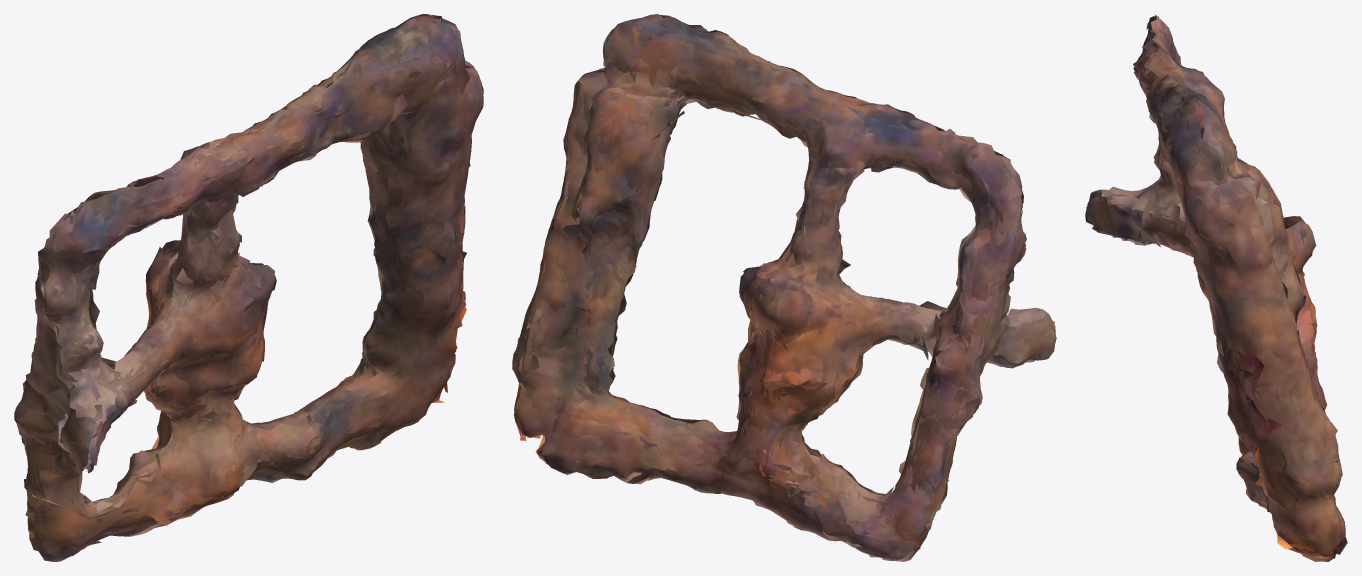
The model's file is rusted_buckle.glb.
The picture shows the model from 3 angles, left to right: view 1: azimuth 30°, elevation 25°; view 2: azimuth 150°, elevation 25°; view 3: azimuth 270°, elevation 25°; orthographic projection. The views are drawn at different scales.
Visible parts, largest first — view 1: Object_5, Object_15, Object_3, Object_13, Object_4, Object_12, Object_2, Object_11, Object_14, Object_17, Object_16, Object_18 (+8 smaller); view 2: Object_22, Object_24, Object_8, Object_23, Object_6, Object_18, Object_7, Object_21, Object_17, Object_20, Object_4, Object_25 (+7 smaller); view 3: Object_20, Object_21, Object_14, Object_19, Object_3, Object_13, Object_22, Object_2, Object_16, Object_15, Object_11, Object_17 (+6 smaller).
Boxes of the visible parts, x1=… form: Object_5: x1=20, y1=46, x2=464, y2=548; Object_15: x1=52, y1=24, x2=466, y2=513; Object_3: x1=49, y1=28, x2=483, y2=518; Object_13: x1=43, y1=25, x2=470, y2=554; Object_4: x1=15, y1=59, x2=430, y2=553; Object_12: x1=30, y1=46, x2=466, y2=557; Object_2: x1=36, y1=44, x2=473, y2=549; Object_11: x1=31, y1=28, x2=469, y2=560; Object_14: x1=65, y1=23, x2=483, y2=492; Object_17: x1=51, y1=16, x2=453, y2=507; Object_16: x1=69, y1=17, x2=461, y2=417; Object_18: x1=18, y1=15, x2=433, y2=504; Object_22: x1=514, y1=25, x2=1003, y2=532; Object_24: x1=530, y1=33, x2=1050, y2=541; Object_8: x1=537, y1=69, x2=1030, y2=559; Object_23: x1=521, y1=25, x2=1022, y2=539; Object_6: x1=541, y1=22, x2=1021, y2=546; Object_18: x1=551, y1=17, x2=1054, y2=533; Object_7: x1=543, y1=36, x2=1021, y2=543; Object_21: x1=512, y1=22, x2=1004, y2=521; Object_17: x1=557, y1=14, x2=1051, y2=501; Object_20: x1=512, y1=18, x2=981, y2=493; Object_4: x1=608, y1=38, x2=1055, y2=549; Object_25: x1=798, y1=210, x2=1056, y2=530; Object_20: x1=1183, y1=73, x2=1344, y2=549; Object_21: x1=1158, y1=30, x2=1344, y2=539; Object_14: x1=1089, y1=70, x2=1320, y2=556; Object_19: x1=1177, y1=120, x2=1337, y2=556; Object_3: x1=1086, y1=32, x2=1312, y2=550; Object_13: x1=1107, y1=56, x2=1281, y2=533; Object_22: x1=1156, y1=31, x2=1345, y2=539; Object_2: x1=1085, y1=16, x2=1291, y2=536; Object_16: x1=1108, y1=26, x2=1202, y2=220; Object_15: x1=1086, y1=32, x2=1259, y2=497; Object_11: x1=1097, y1=115, x2=1332, y2=561; Object_17: x1=1089, y1=17, x2=1280, y2=206.
Bounding box in the file's own units: 35.34 × 34.5 × 17.41.
24 materials, 24 textured.
